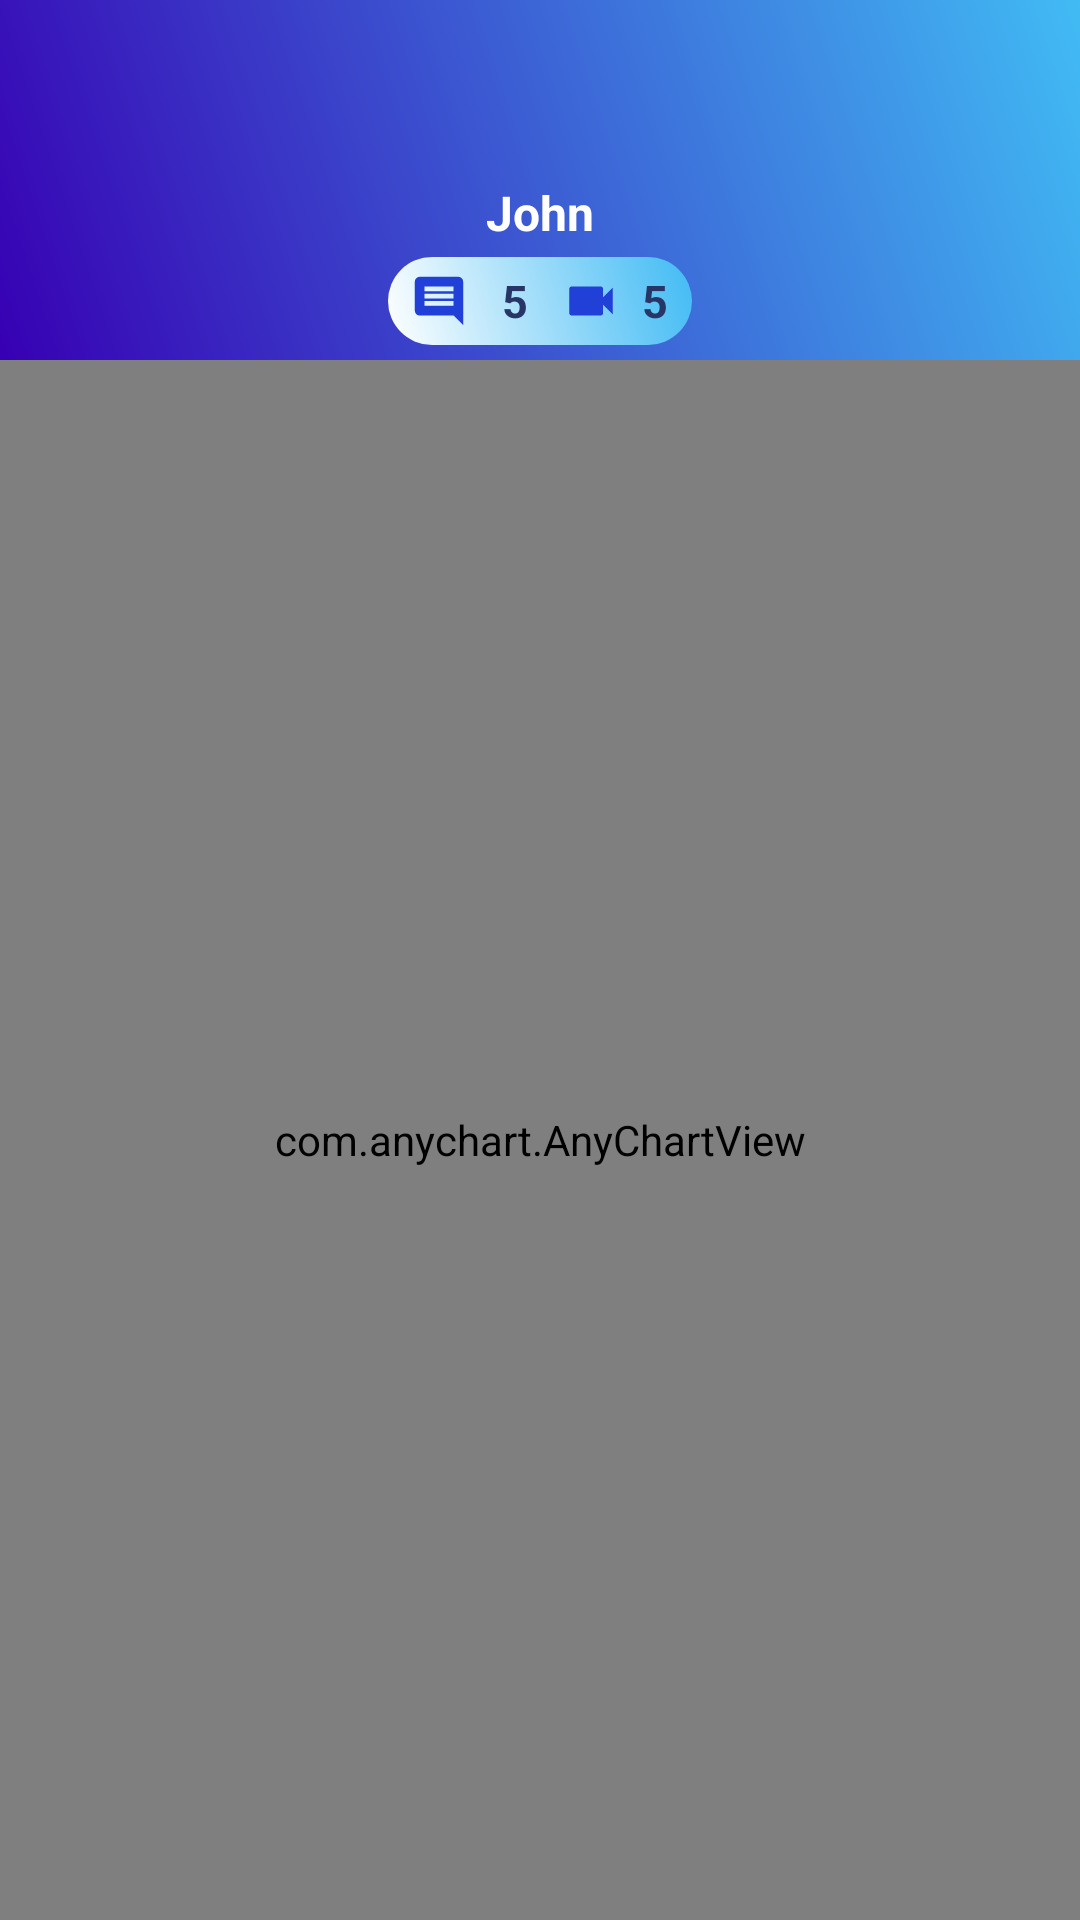

Icon click points for this 1080*1920 phone screenshot, format (x,y):
comment: (439,301)
videocam: (591,301)
